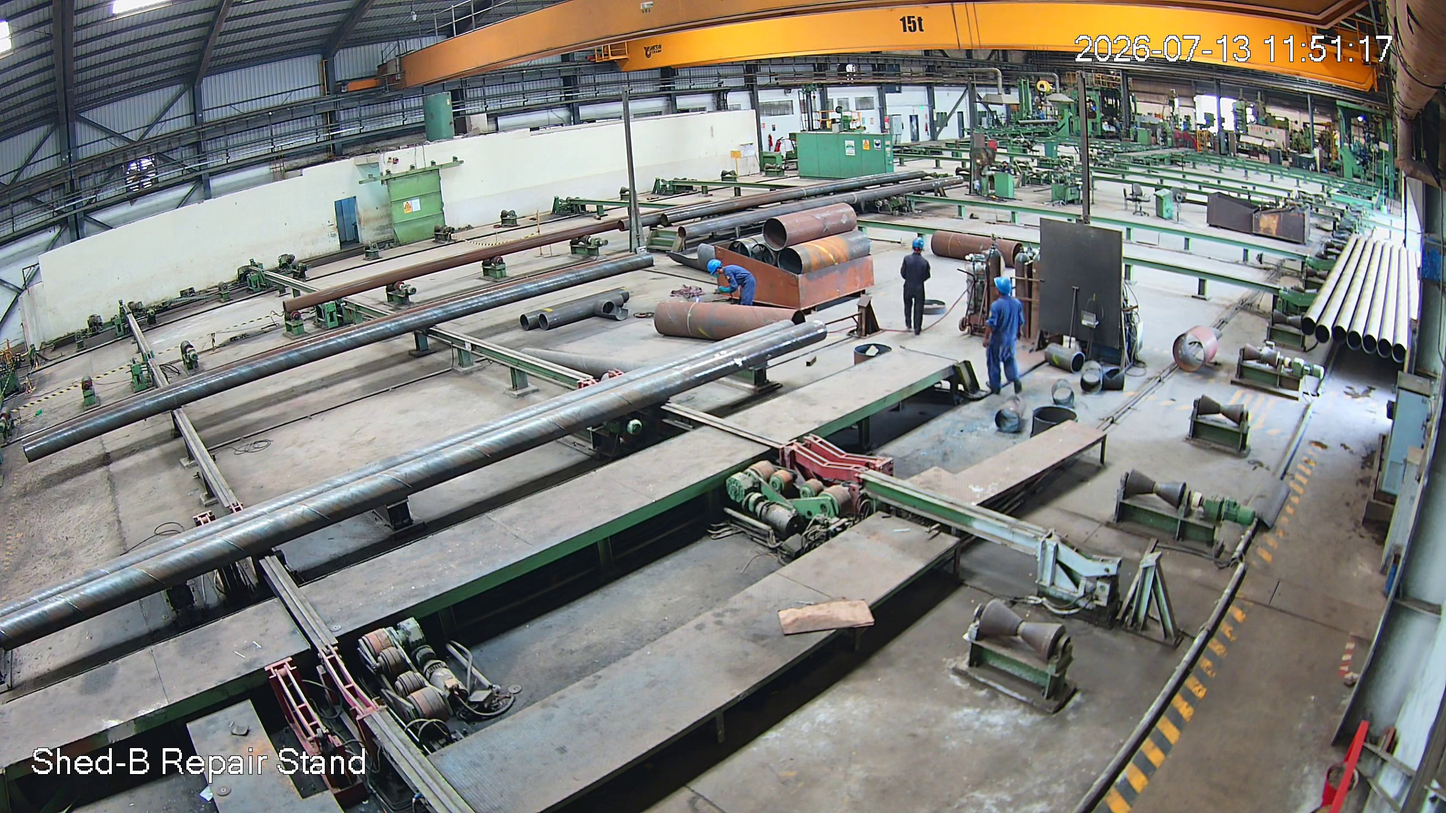Helmet: (993, 273, 1013, 303), (704, 259, 726, 283), (909, 235, 933, 257)
Person: (985, 276, 1028, 393), (903, 237, 931, 332), (705, 261, 757, 309)
